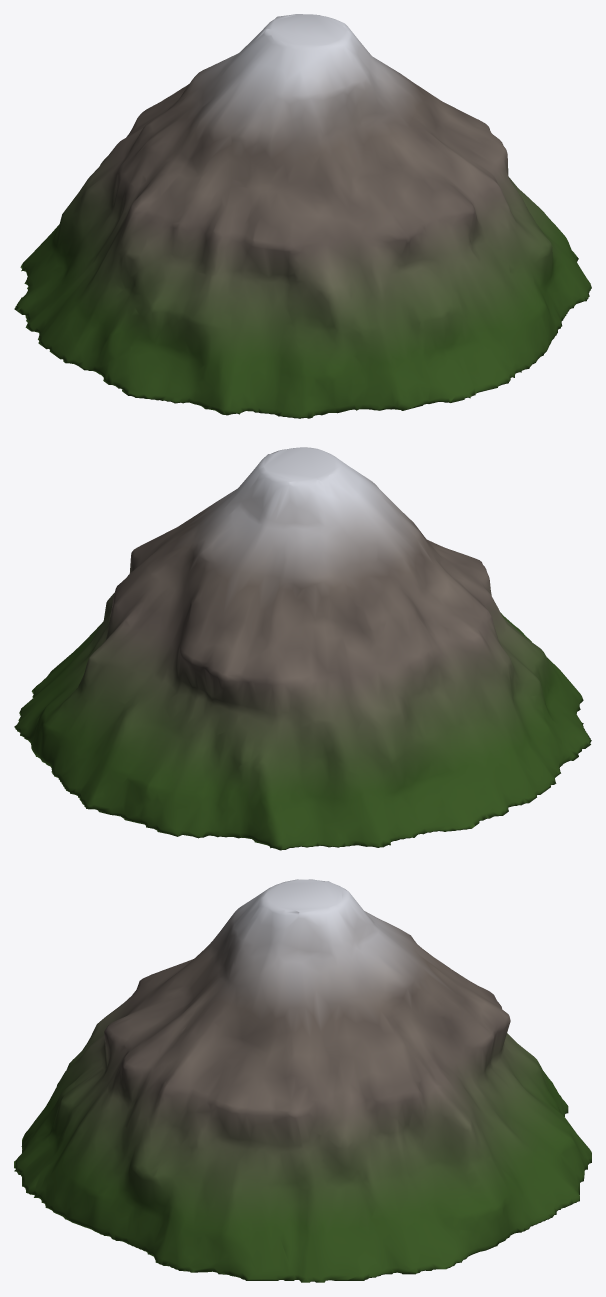
Rendered from mountain.glb.
The picture shows the model from 3 angles, top to bottom: view 1: azimuth 30°, elevation 25°; view 2: azimuth 150°, elevation 25°; view 3: azimuth 270°, elevation 25°; orthographic projection.
Visible parts, largest first — view 1: mountain; view 2: mountain; view 3: mountain.
Boxes of the visible parts, x1,y1,x2,y2 form: mountain: (14,14,591,418); mountain: (14,447,591,850); mountain: (14,879,591,1282).
Size of the model in its own units: 87.6 by 45.03 by 88.23.
